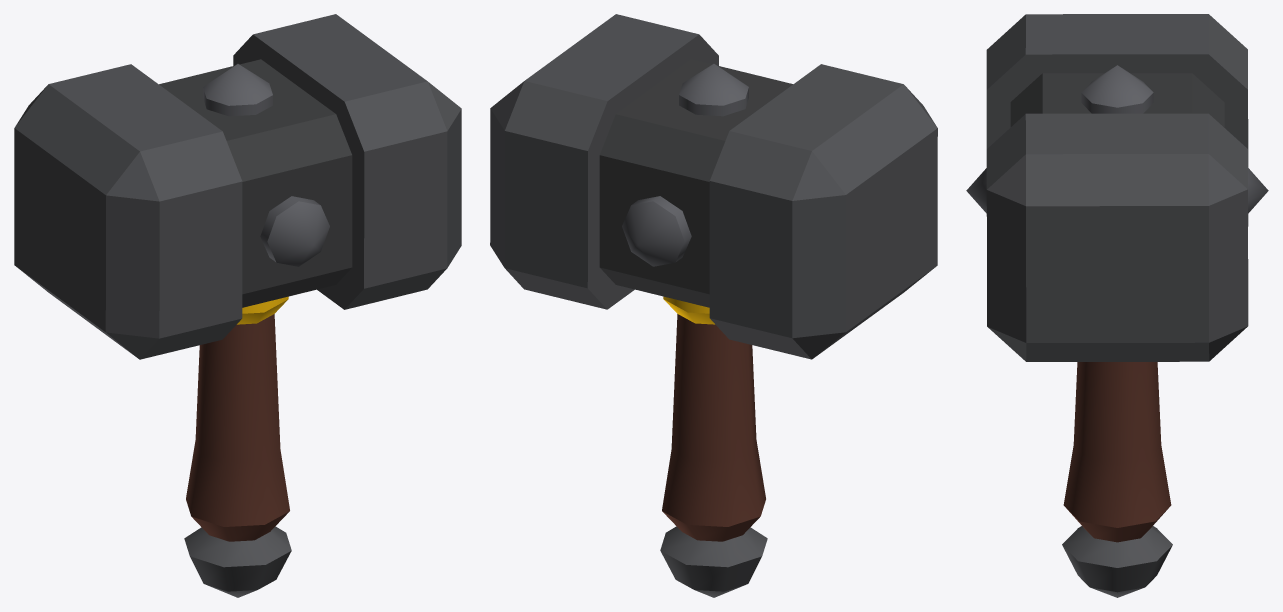
Rendered from Hammer_LHand_6.fbx.
3 renders of one model, left to right at view 1: azimuth 30°, elevation 25°; view 2: azimuth 150°, elevation 25°; view 3: azimuth 270°, elevation 25°, orthographic.
Visible parts, largest first — view 1: Hammer_LHand_6; view 2: Hammer_LHand_6; view 3: Hammer_LHand_6.
Part boxes in pixels (x1,y1,x2,y2): Hammer_LHand_6: (14,14,461,597); Hammer_LHand_6: (490,14,937,597); Hammer_LHand_6: (966,14,1268,597).
Bounding box in the file's own units: 34.69 × 49.76 × 25.6.
